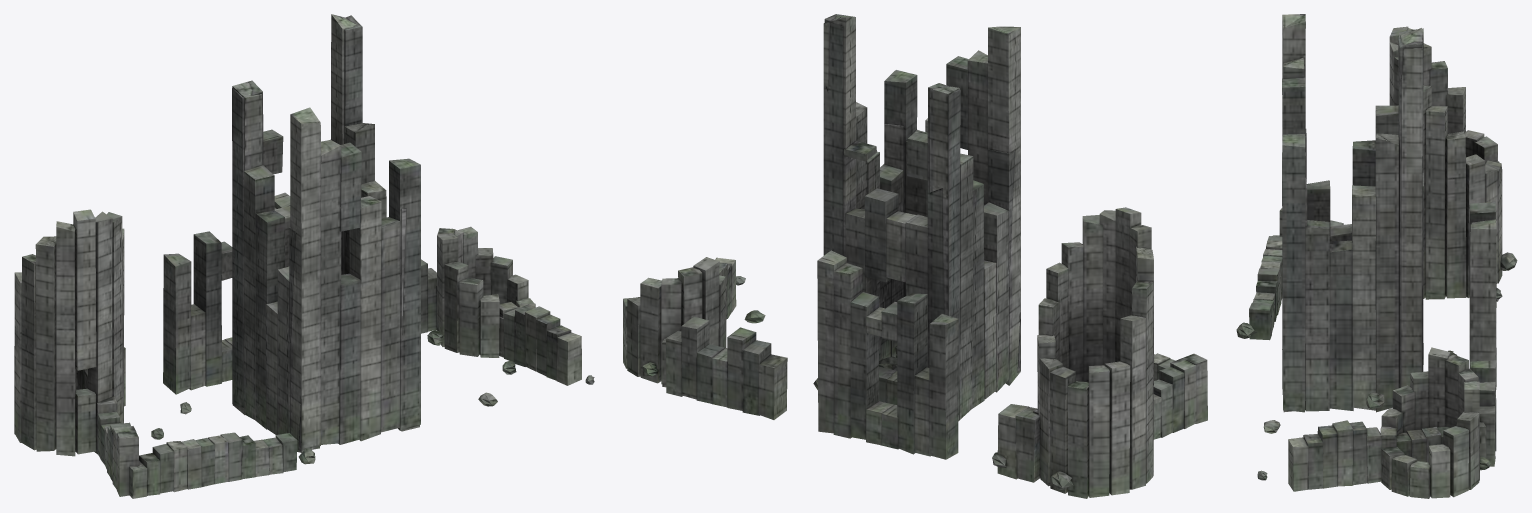
File: veilscar-ruin.glb
3 views of the same model, side by side, from view 1: azimuth 30°, elevation 25°; view 2: azimuth 150°, elevation 25°; view 3: azimuth 270°, elevation 25° (orthographic). The views are drawn at different scales.
Visible parts, largest first — view 1: veilscar-ruin; view 2: veilscar-ruin; view 3: veilscar-ruin.
Boxes of the visible parts, bbox=[...] form: veilscar-ruin: bbox=[14, 14, 594, 498]; veilscar-ruin: bbox=[623, 14, 1207, 498]; veilscar-ruin: bbox=[1236, 14, 1517, 498].
Size of the model in its own units: 37.93 by 26.75 by 18.13.
Materials: 1 (1 with a texture image).
